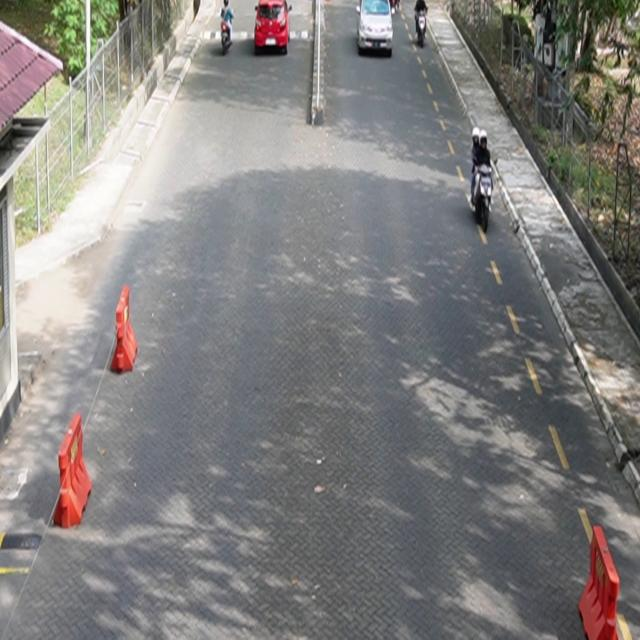car: (356, 1, 394, 57), (255, 1, 293, 56)
